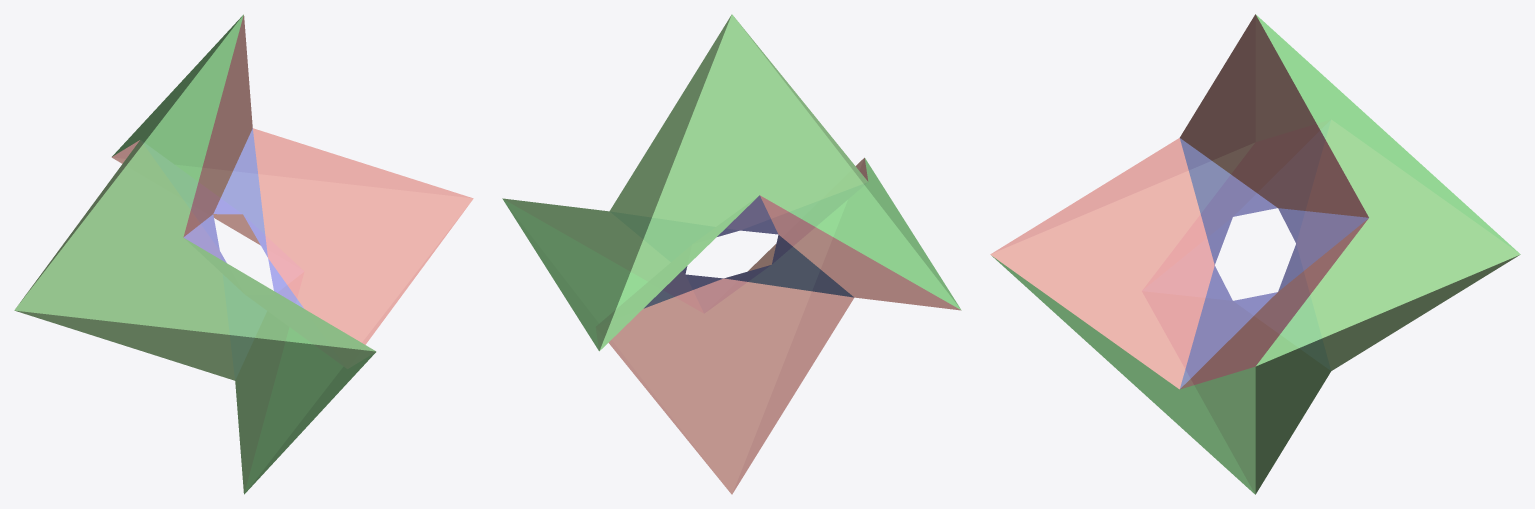
The model's file is RegularAntiprismaticTetragonalToroid.obj.
3 views of the same model, side by side, from view 1: azimuth 30°, elevation 25°; view 2: azimuth 150°, elevation 25°; view 3: azimuth 270°, elevation 25° (orthographic).
Bounding box in the file's own units: 3.78 × 3.78 × 3.78.
